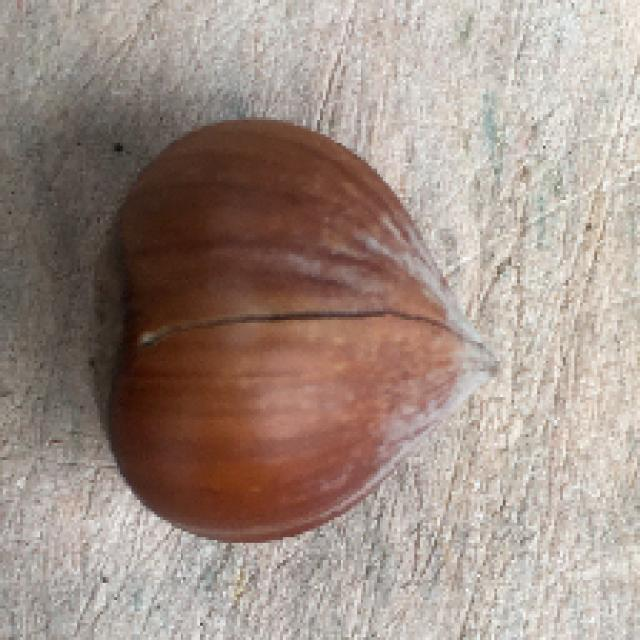qualityHazelnut: (81, 104, 516, 541)
